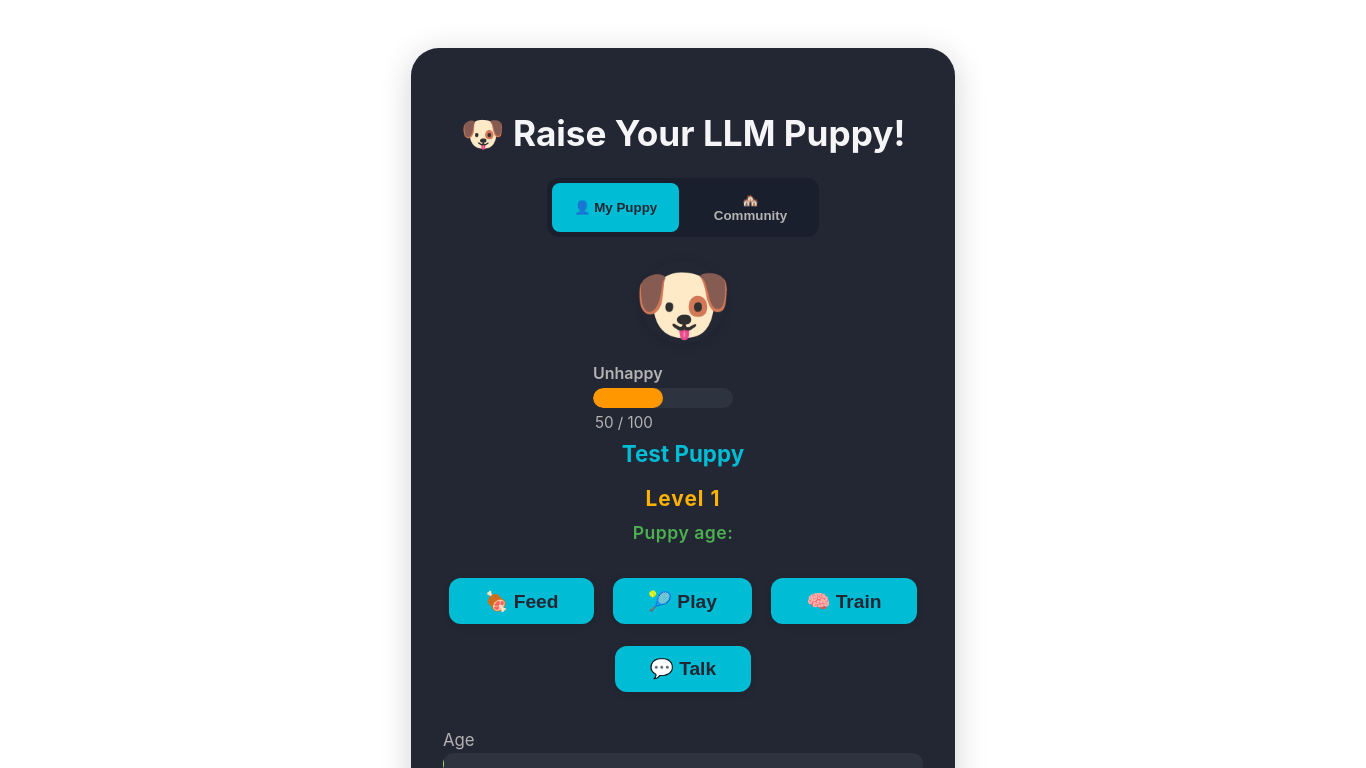
App Component › talk dialog opens and closes
Expected: the text "Test Puppy" is shown, [622,440,744,467]
Click the button "💬 Talk": (683, 669) [615,646,751,692]
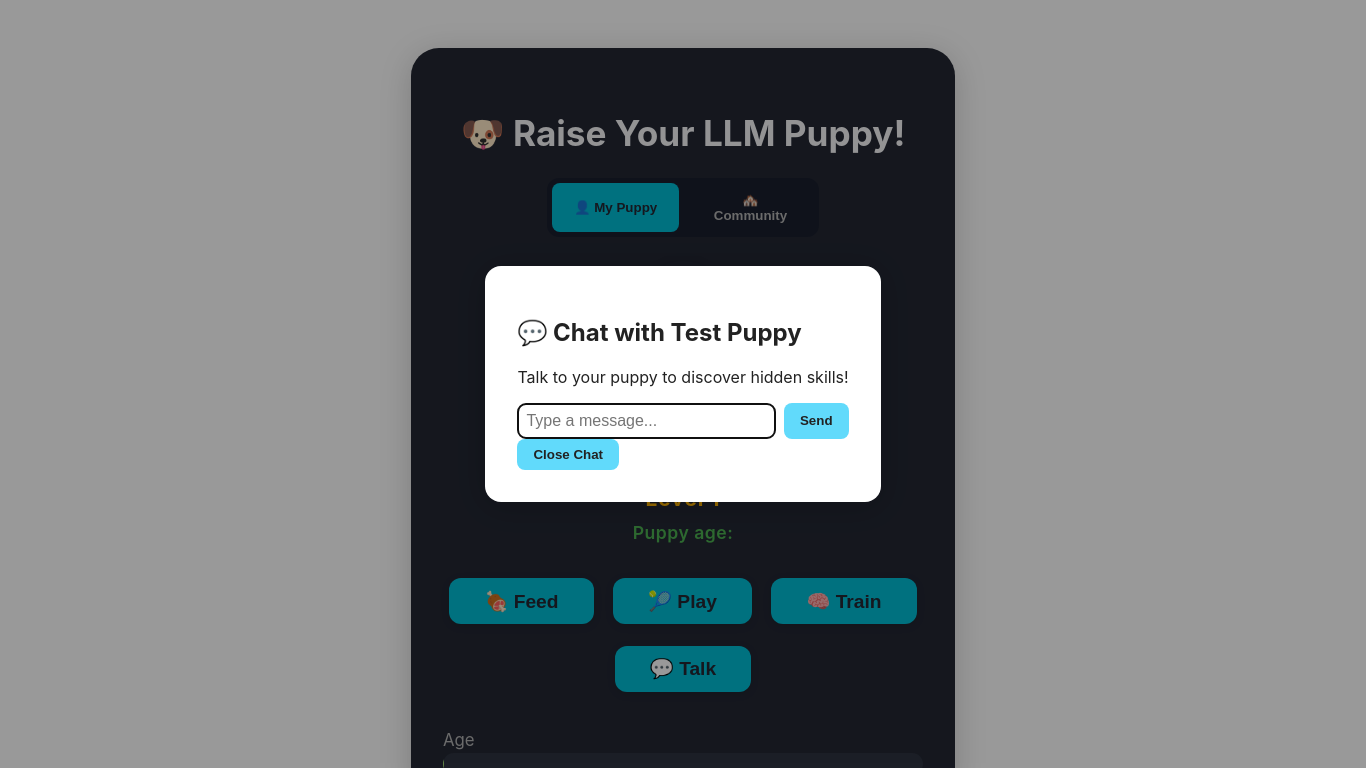
Now the heading "💬 Chat with Test Puppy" is shown, box [517,318,848,347]
Click the button "Close Chat": (568, 454) [517,439,619,470]
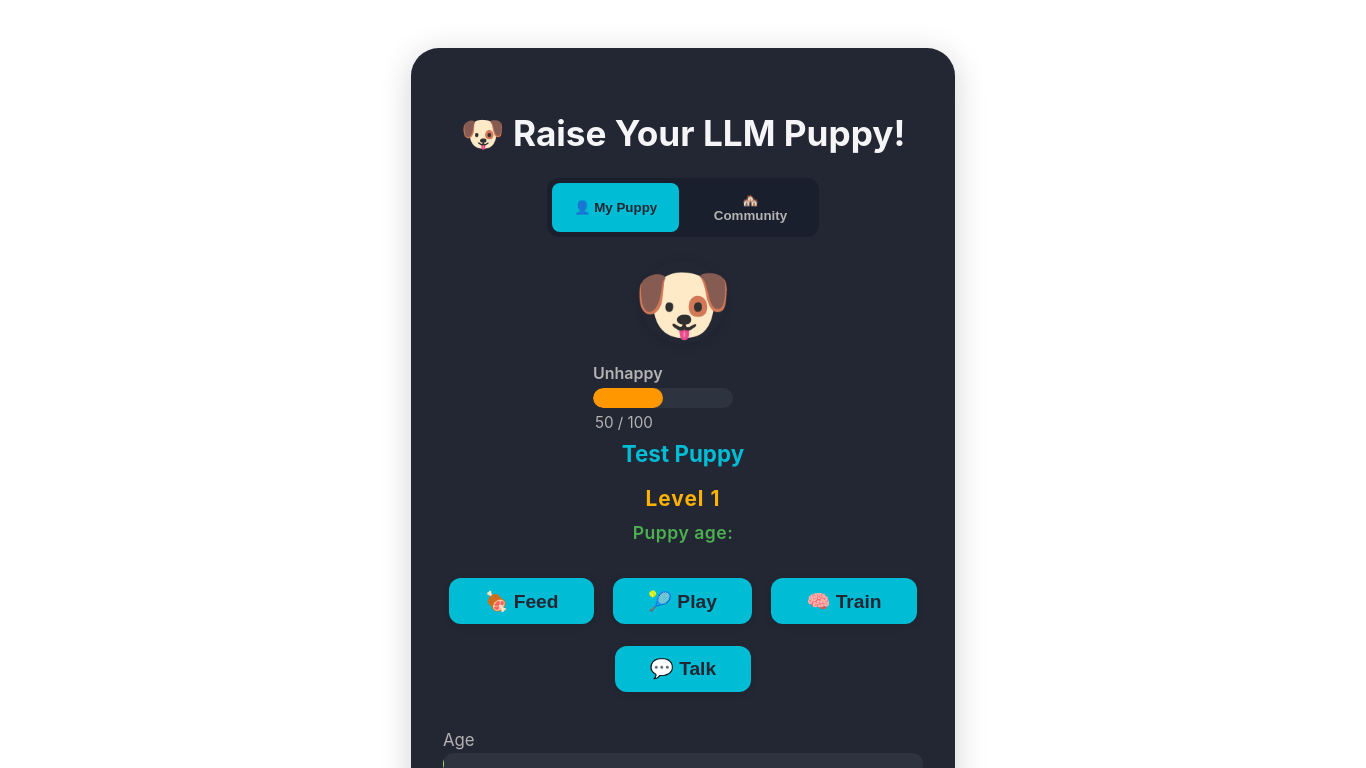
Now the heading "💬 Chat with Test Puppy" is gone
